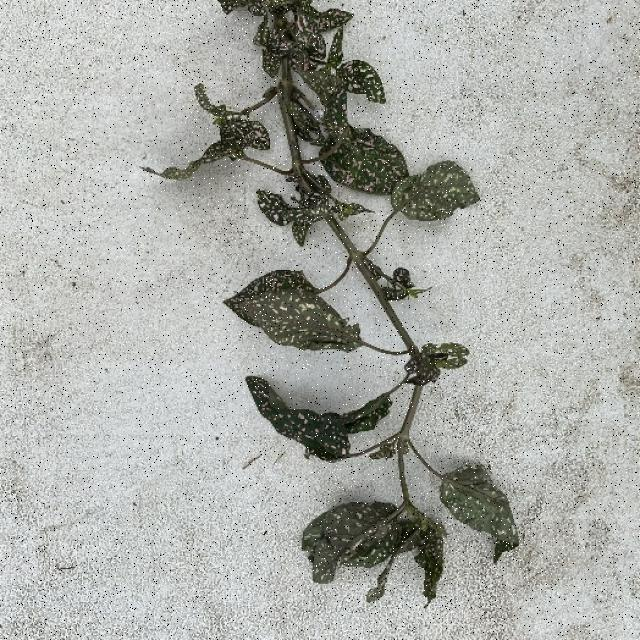organik: (179, 0, 499, 586)
